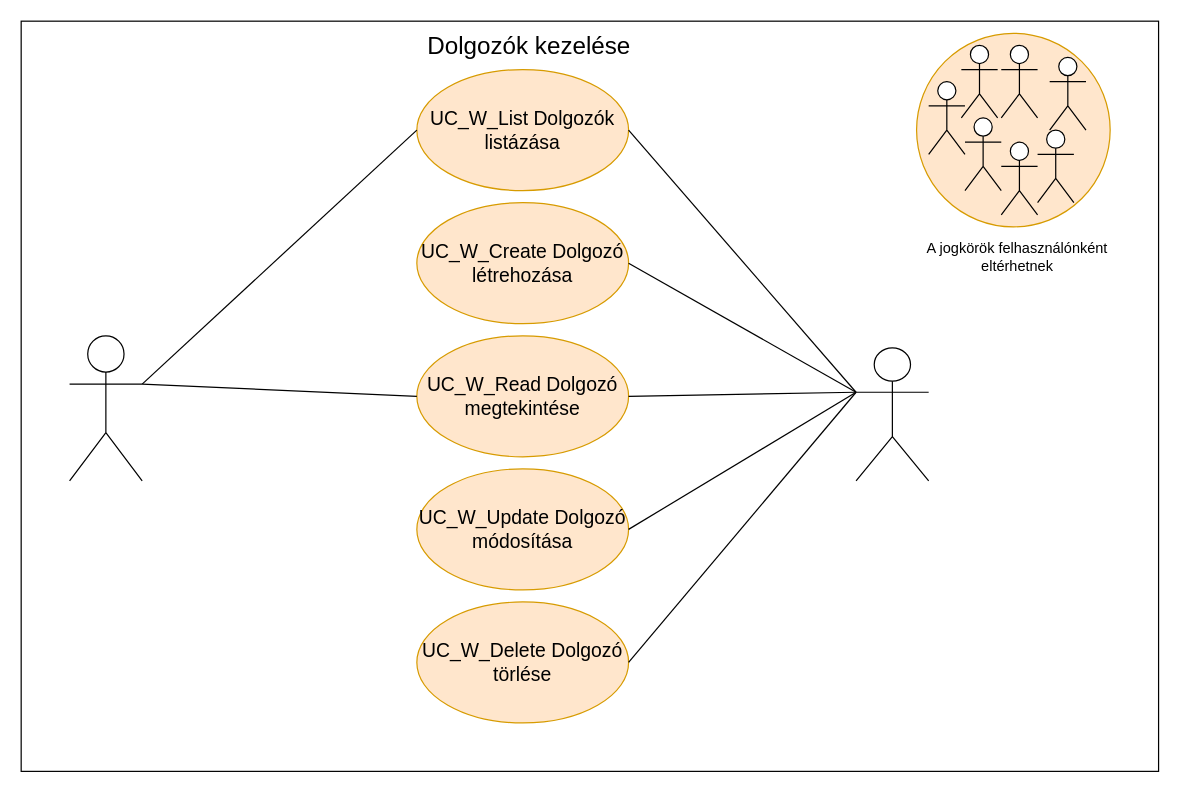
Some shapes in this 1180 by 793 pixel diagram are drawn without their labels. Each missing label, with the centre of its shape:
"Adminisztrátori jogkörrel rendelkező felhasználó" goes at (892,414).
"Általános jogkörrel rendelkező felhasználó" goes at (105,408).
